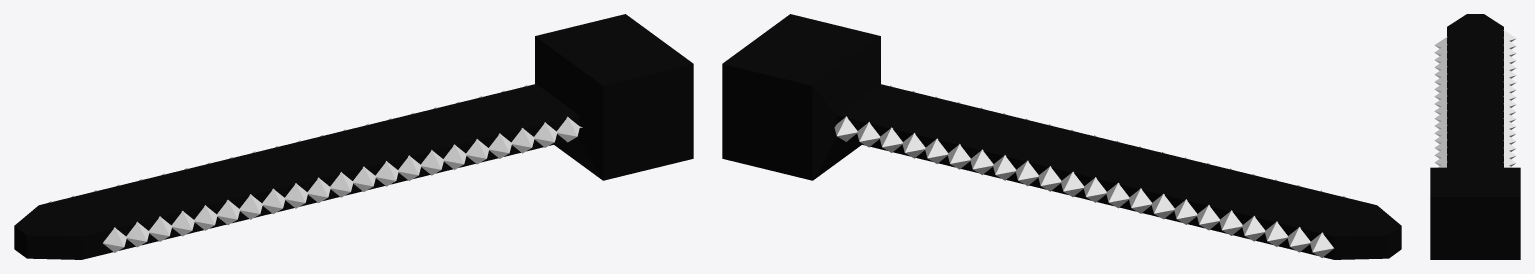
File: Somos+Chainsaw3.fbx
3 renders of one model, left to right at view 1: azimuth 30°, elevation 25°; view 2: azimuth 150°, elevation 25°; view 3: azimuth 270°, elevation 25°, orthographic. The views are drawn at different scales.
Parts seen in each view (by area): view 1: ChainsawBody.005, ChainsawBody.001, Cone.001; view 2: ChainsawBody.005, ChainsawBody.001, Cone.002; view 3: ChainsawBody.005, ChainsawBody.001, Cone.002, Cone.001.
Part boxes in pixels (left/top/right/bottom): ChainsawBody.005: left=20, top=14, right=693, bottom=253; ChainsawBody.001: left=14, top=84, right=579, bottom=259; Cone.001: left=103, top=116, right=582, bottom=252; ChainsawBody.005: left=722, top=14, right=1395, bottom=253; ChainsawBody.001: left=836, top=84, right=1401, bottom=259; Cone.002: left=834, top=116, right=1333, bottom=257; ChainsawBody.005: left=1430, top=14, right=1520, bottom=259; ChainsawBody.001: left=1447, top=14, right=1503, bottom=167; Cone.002: left=1503, top=30, right=1516, bottom=167; Cone.001: left=1434, top=37, right=1447, bottom=167.
Bounding box in the file's own units: 1128 × 160 × 208.
